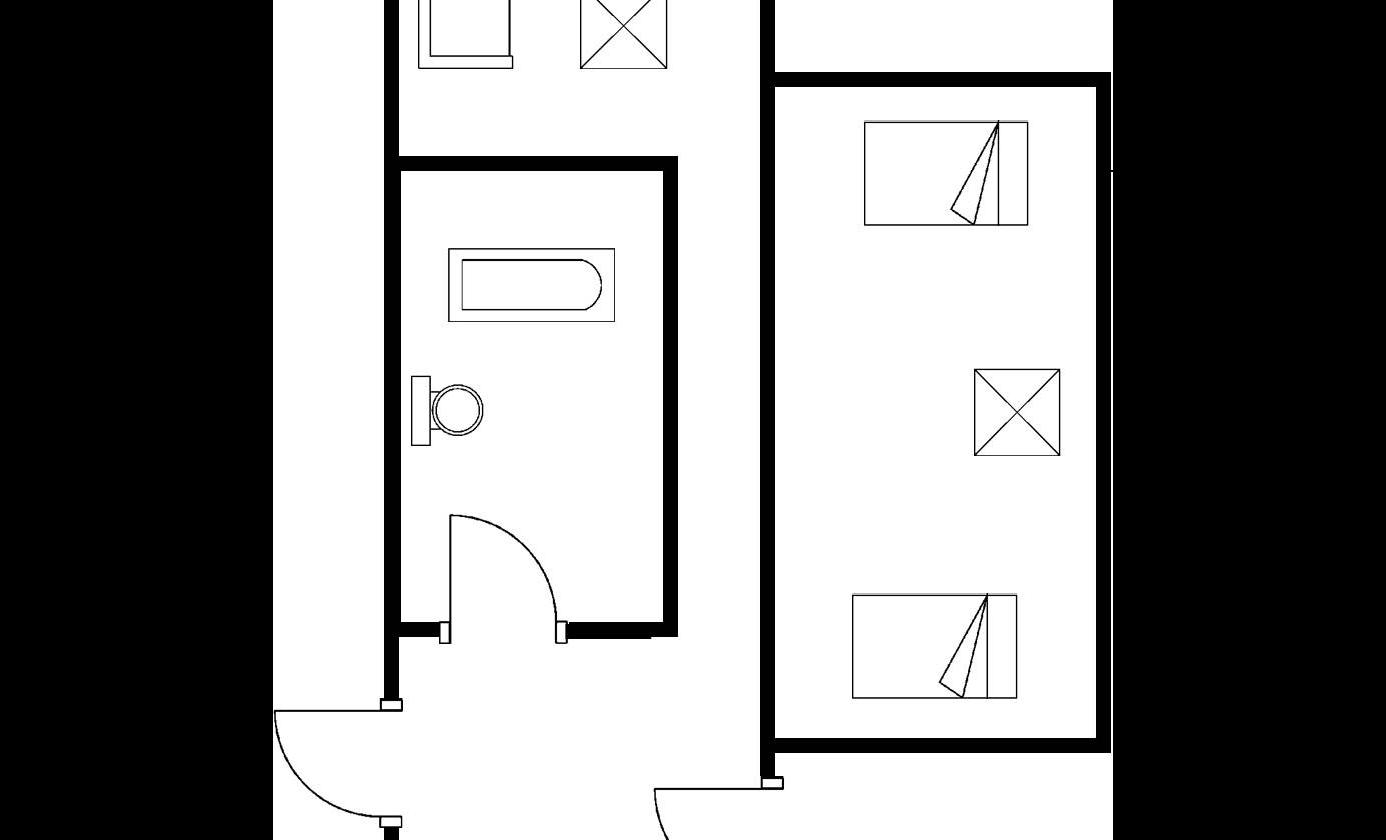bed: (843, 584, 1022, 702), (859, 115, 1033, 229)
dining_table: (413, 0, 518, 73)
toilet: (405, 369, 488, 451)
tub: (440, 241, 623, 325)
